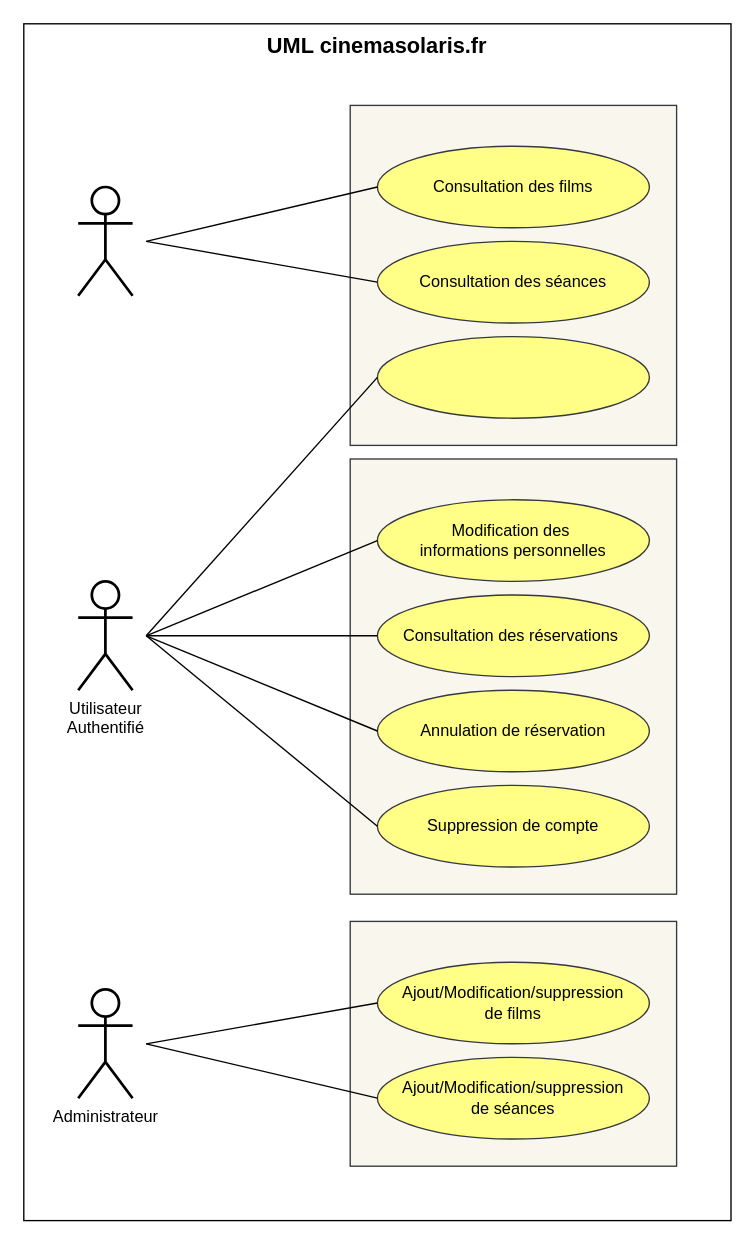
This 755x1244 diagram has some shape labels left out. Here are the shapes that lost their labels. From the top down, the box of each, then its label:
(76, 185, 133, 296): Visiteur
(349, 104, 677, 445): Navigation et utilisation
(376, 335, 649, 418): Effectuer des réservations
(349, 458, 677, 894): Gestion de compte utilisateur
(349, 920, 677, 1166): Gestion des films et séances
